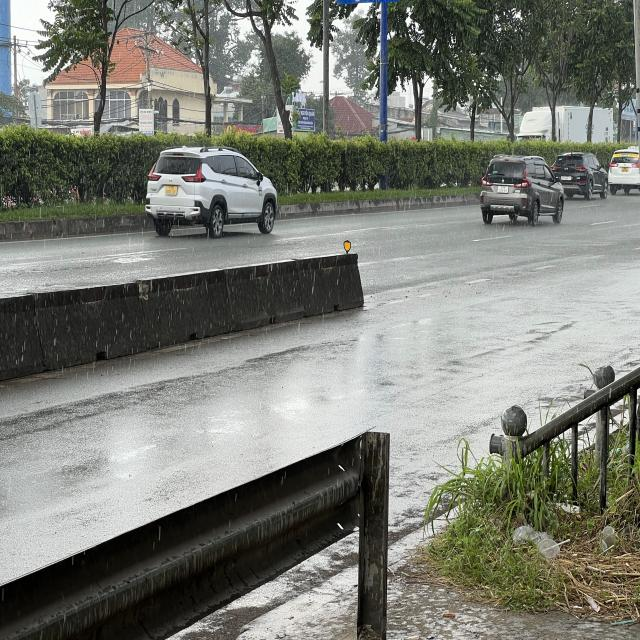car: (147, 144, 279, 239), (478, 153, 569, 227), (551, 151, 611, 200), (608, 146, 640, 197)
